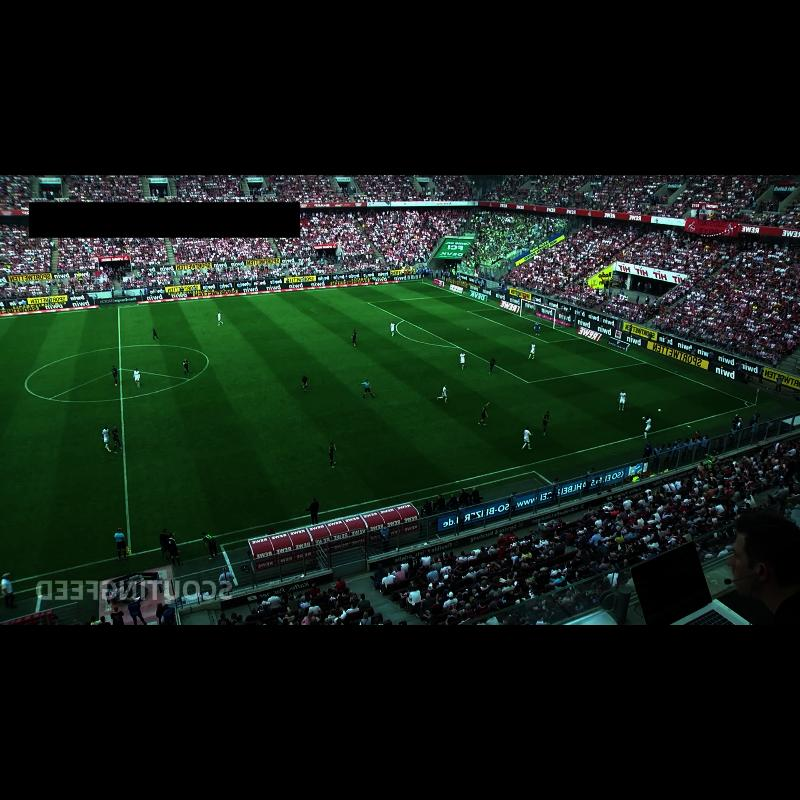cross_recipient_zone: (368, 295, 647, 382)
crossing_player_zone: (426, 363, 756, 466), (276, 282, 461, 309)
pitch: (0, 282, 755, 585)
